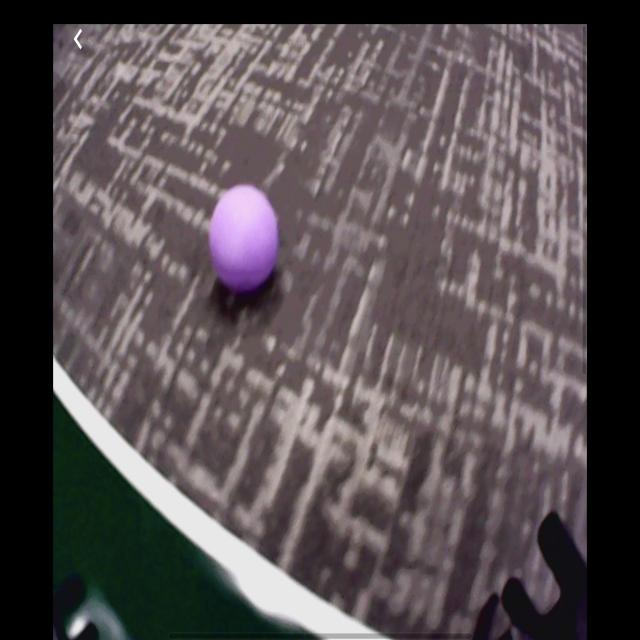ball: (208, 187, 283, 298)
